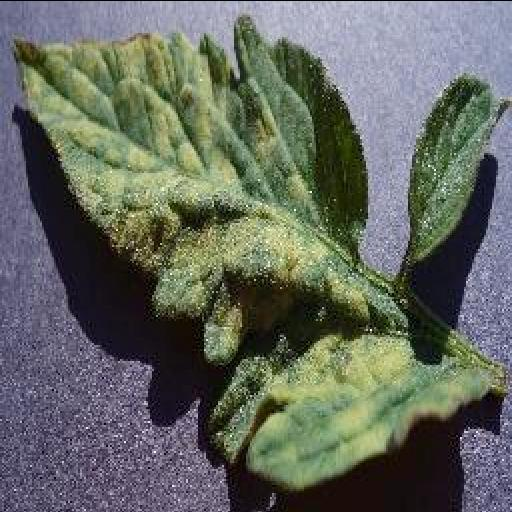disease_tomato: (10, 16, 512, 488)
